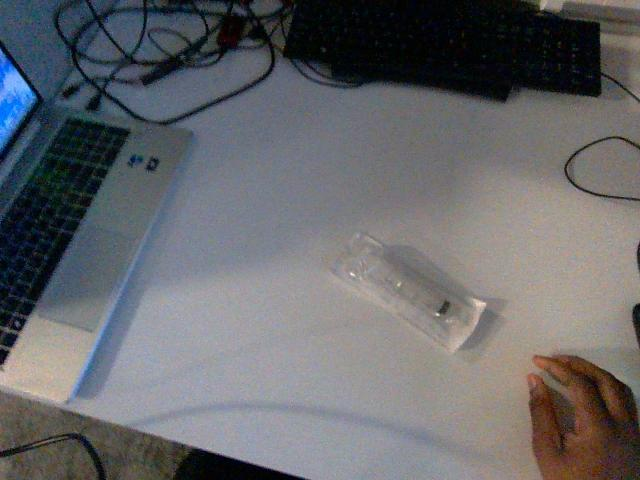syringe: (331, 232, 485, 352)
